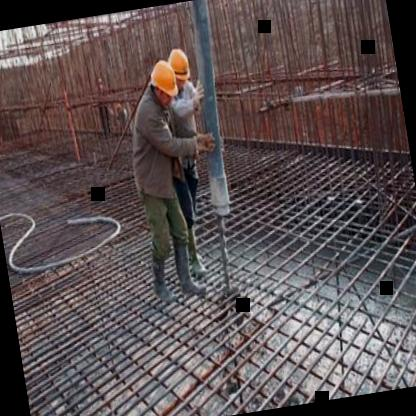helmet: (161, 43, 195, 96), (147, 55, 181, 104)
